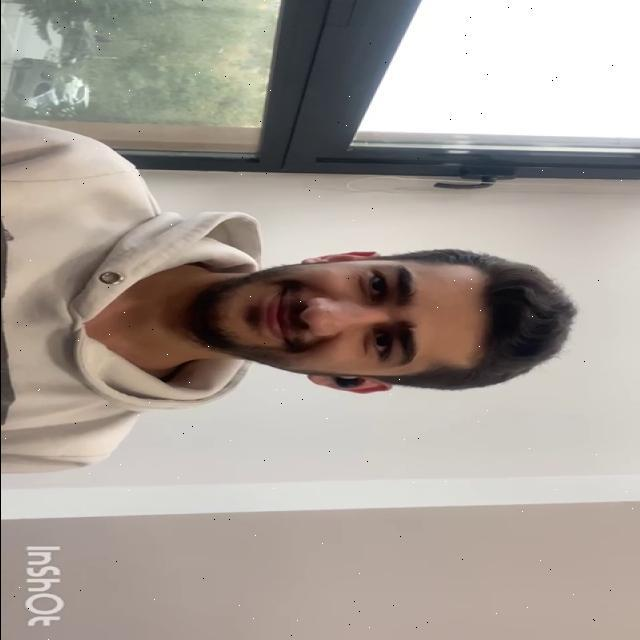happy: (198, 260, 496, 381)
